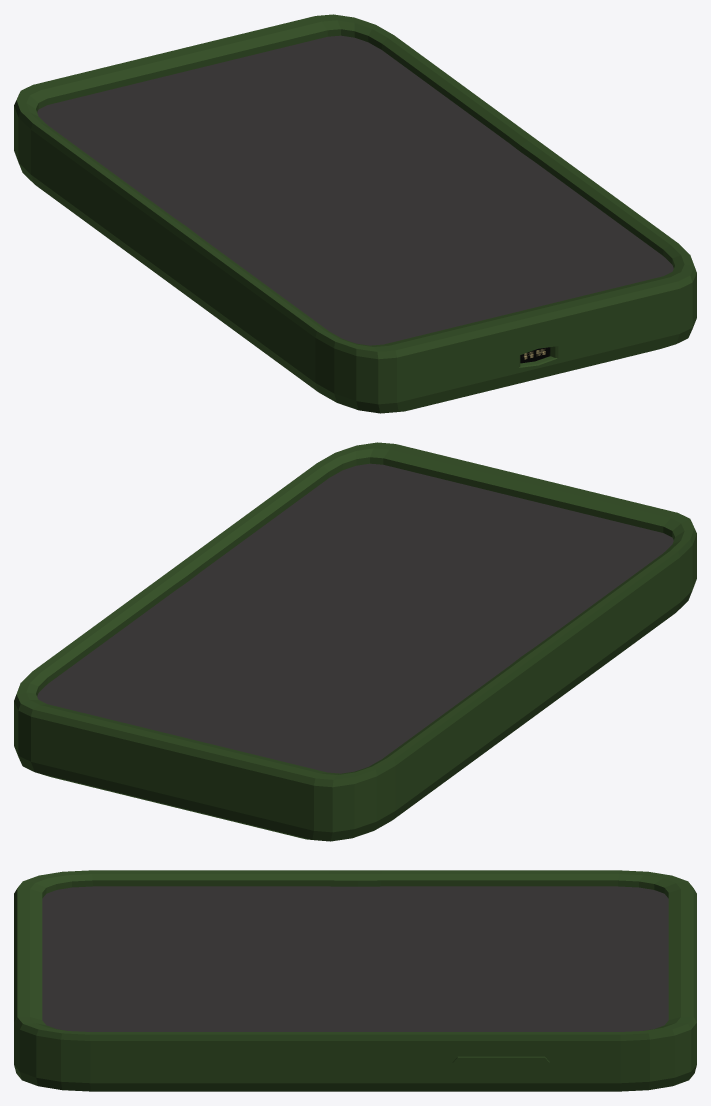
The model's file is movil.fbx.
3 views of the same model, one above another, from view 1: azimuth 30°, elevation 25°; view 2: azimuth 150°, elevation 25°; view 3: azimuth 270°, elevation 25° (orthographic). The views are drawn at different scales.
Visible parts, largest first — view 1: MOVIL; view 2: MOVIL; view 3: MOVIL.
Boxes of the visible parts, bbox=[...] form: MOVIL: bbox=[14, 14, 696, 413]; MOVIL: bbox=[14, 442, 696, 841]; MOVIL: bbox=[14, 870, 696, 1091].
Bounding box in the file's own units: 10.84 × 2.3 × 18.75.
